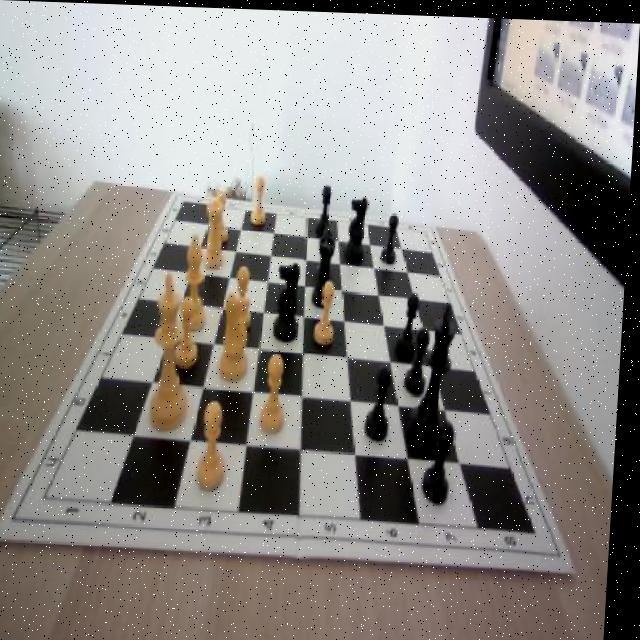black-bishop: (412, 305, 463, 451)
black-king: (275, 257, 308, 339), (347, 191, 371, 263)
black-knight: (427, 416, 460, 501), (370, 360, 399, 438), (407, 323, 434, 393), (399, 287, 424, 355), (384, 210, 402, 263), (319, 182, 337, 233)
black-queen: (314, 231, 341, 308)
black-rook: (183, 232, 214, 330)
white-bishop: (150, 269, 199, 430)
white-king: (217, 281, 260, 383)
white-knight: (199, 399, 235, 490), (262, 348, 297, 434), (175, 294, 206, 370), (231, 264, 258, 333), (318, 276, 342, 342), (214, 190, 234, 240), (252, 175, 272, 224)
white-queen: (205, 197, 231, 268)
